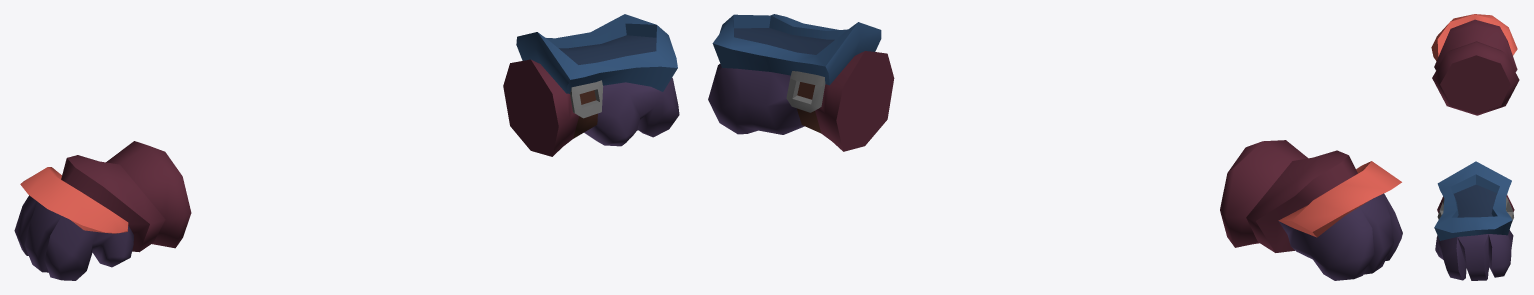
Rendered from Glove_19.fbx.
3 renders of one model, left to right at view 1: azimuth 30°, elevation 25°; view 2: azimuth 150°, elevation 25°; view 3: azimuth 270°, elevation 25°, orthographic. The views are drawn at different scales.
Visible parts, largest first — view 1: Glove_19; view 2: Glove_19; view 3: Glove_19.
Part boxes in pixels (x1=…): Glove_19: x1=14, y1=14, x2=679, y2=280; Glove_19: x1=708, y1=14, x2=1402, y2=280; Glove_19: x1=1431, y1=14, x2=1519, y2=280.
Bounding box in the file's own units: 135 × 24.5 × 23.01.
